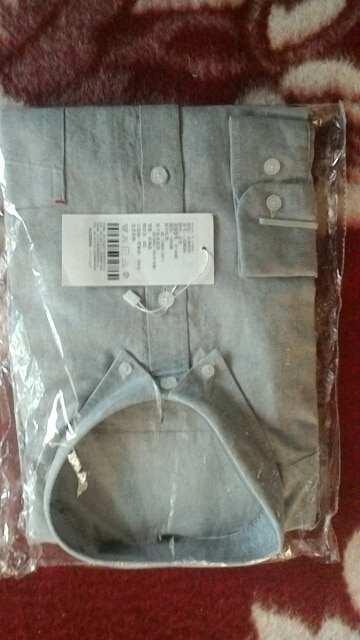shirts: (13, 125, 326, 561)
